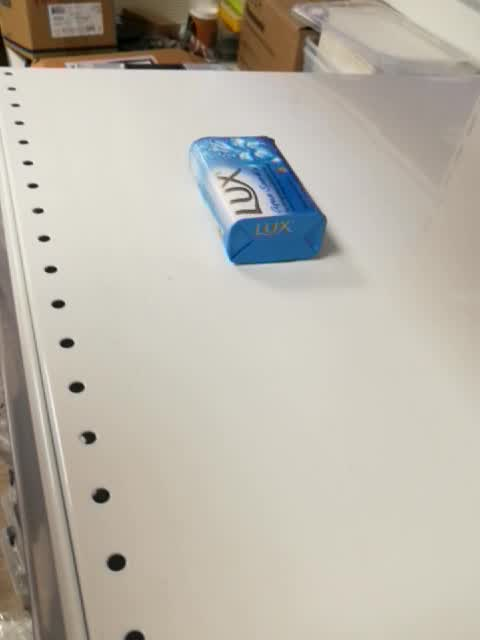soap: (187, 134, 328, 267)
